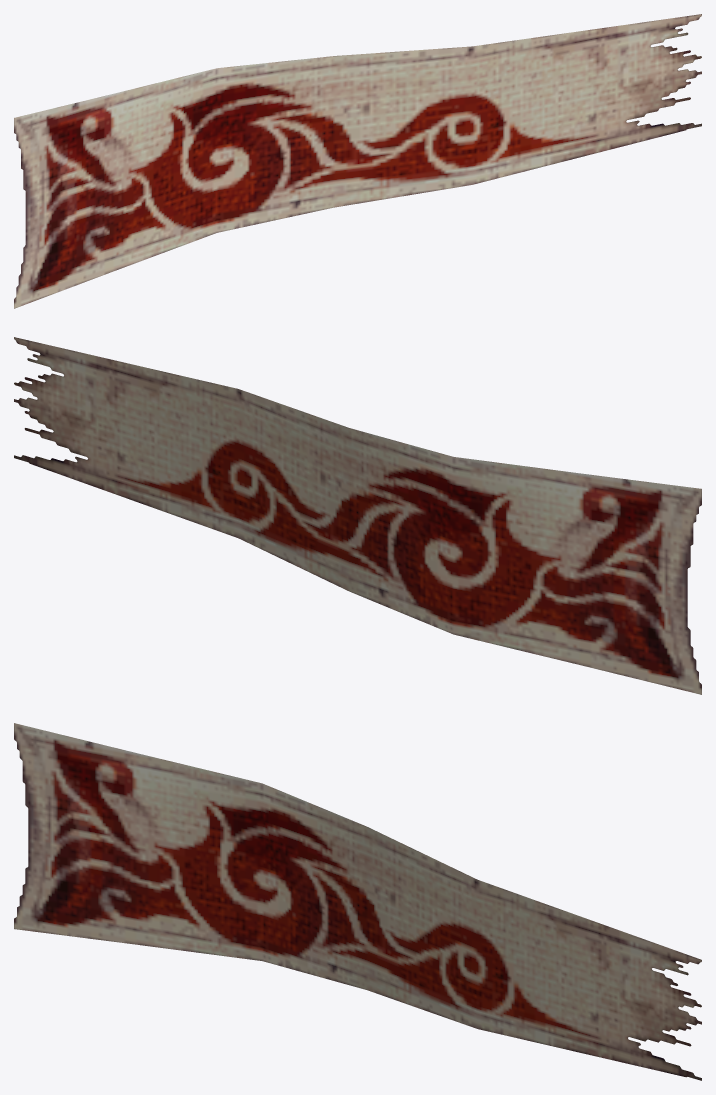
Rendered from Flag4.obj.
3 renders of one model, top to bottom at view 1: azimuth 30°, elevation 25°; view 2: azimuth 150°, elevation 25°; view 3: azimuth 330°, elevation 25°, orthographic. The views are drawn at different scales.
Size of the model in its own units: 119 by 32.87 by 12.11.
